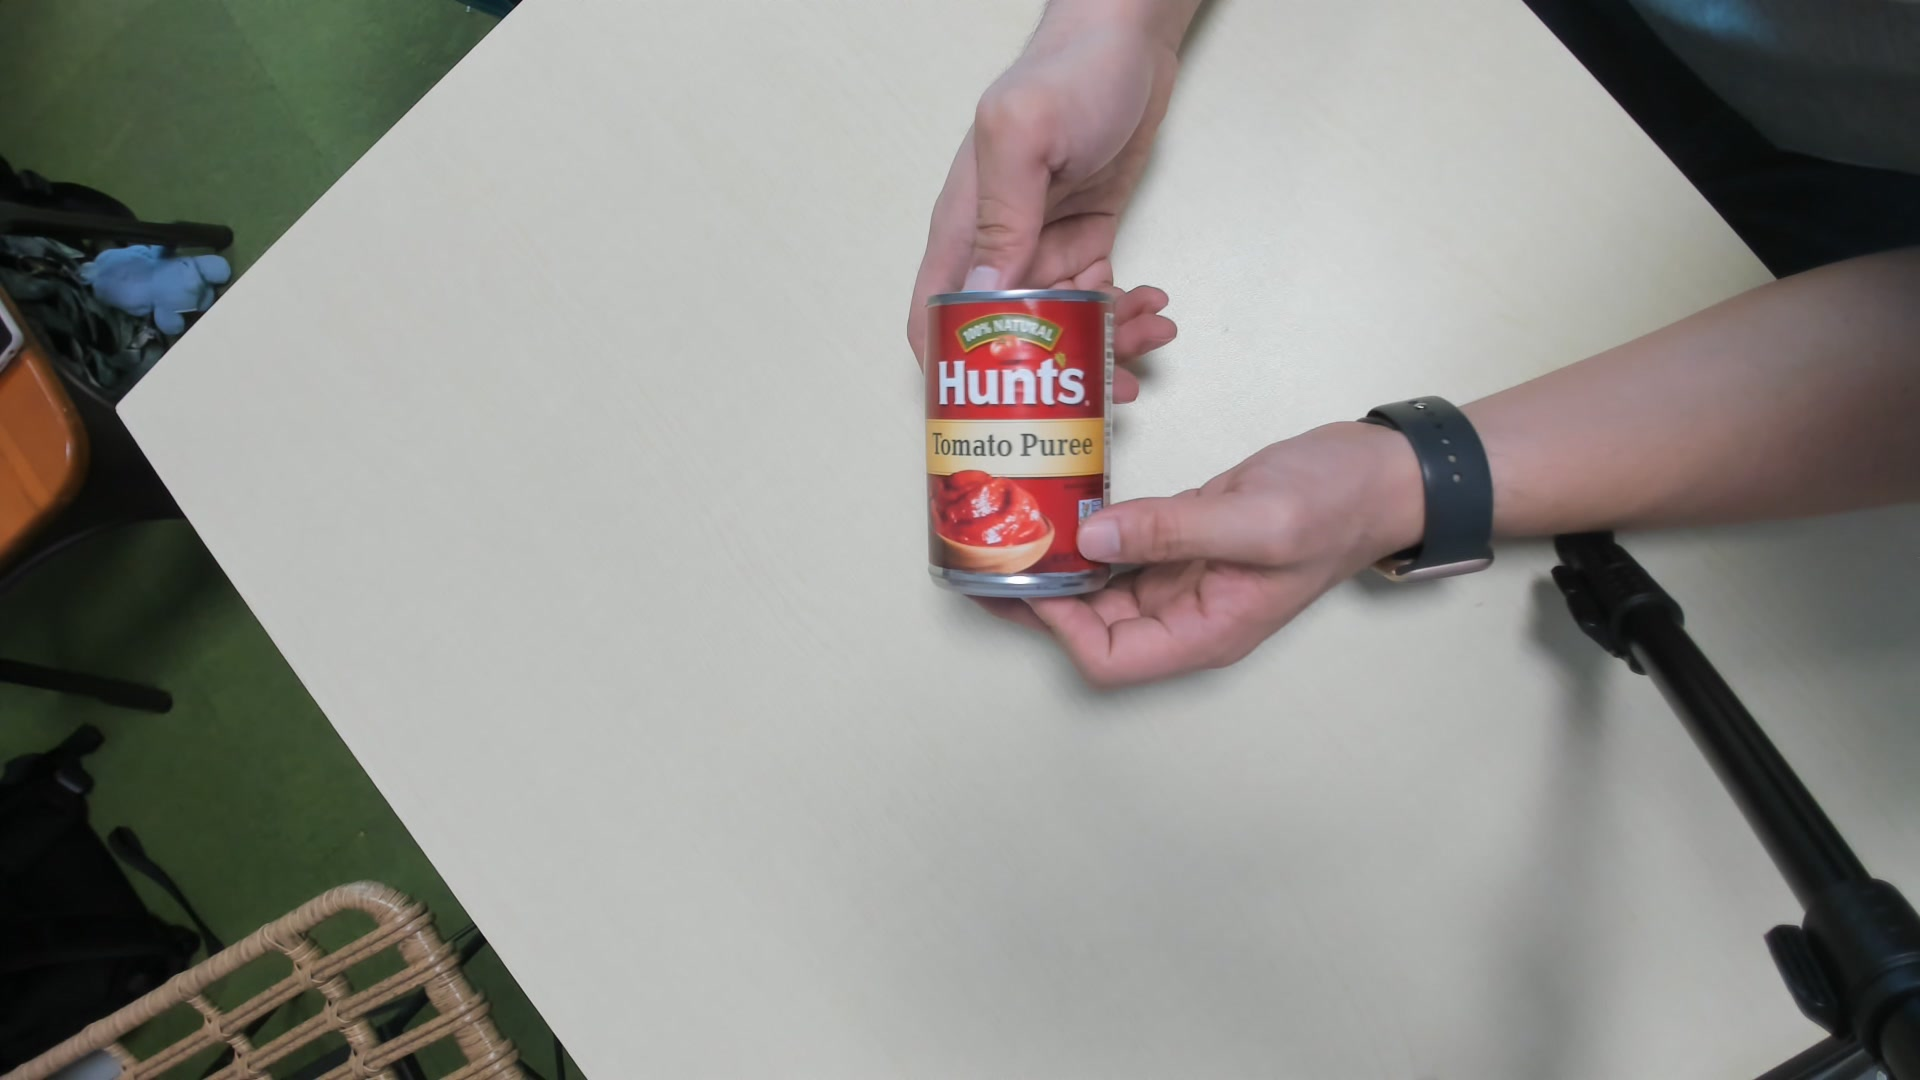OtherSauceDressing_300-399g_NonHalal_NonHealthy: (913, 280, 1129, 608)
